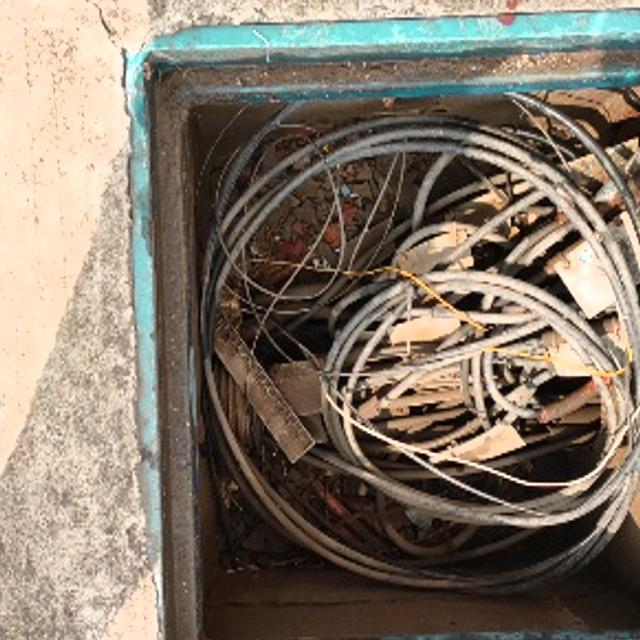lose: (123, 5, 640, 640)
